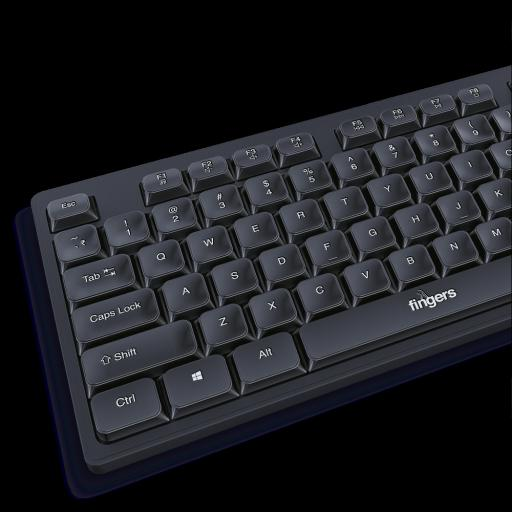KEYBOARD-2: (35, 64, 511, 428)
